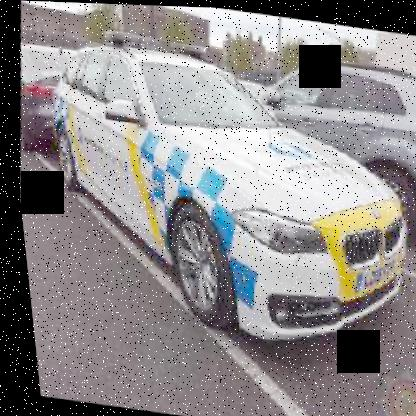emergency: (15, 13, 415, 361)
